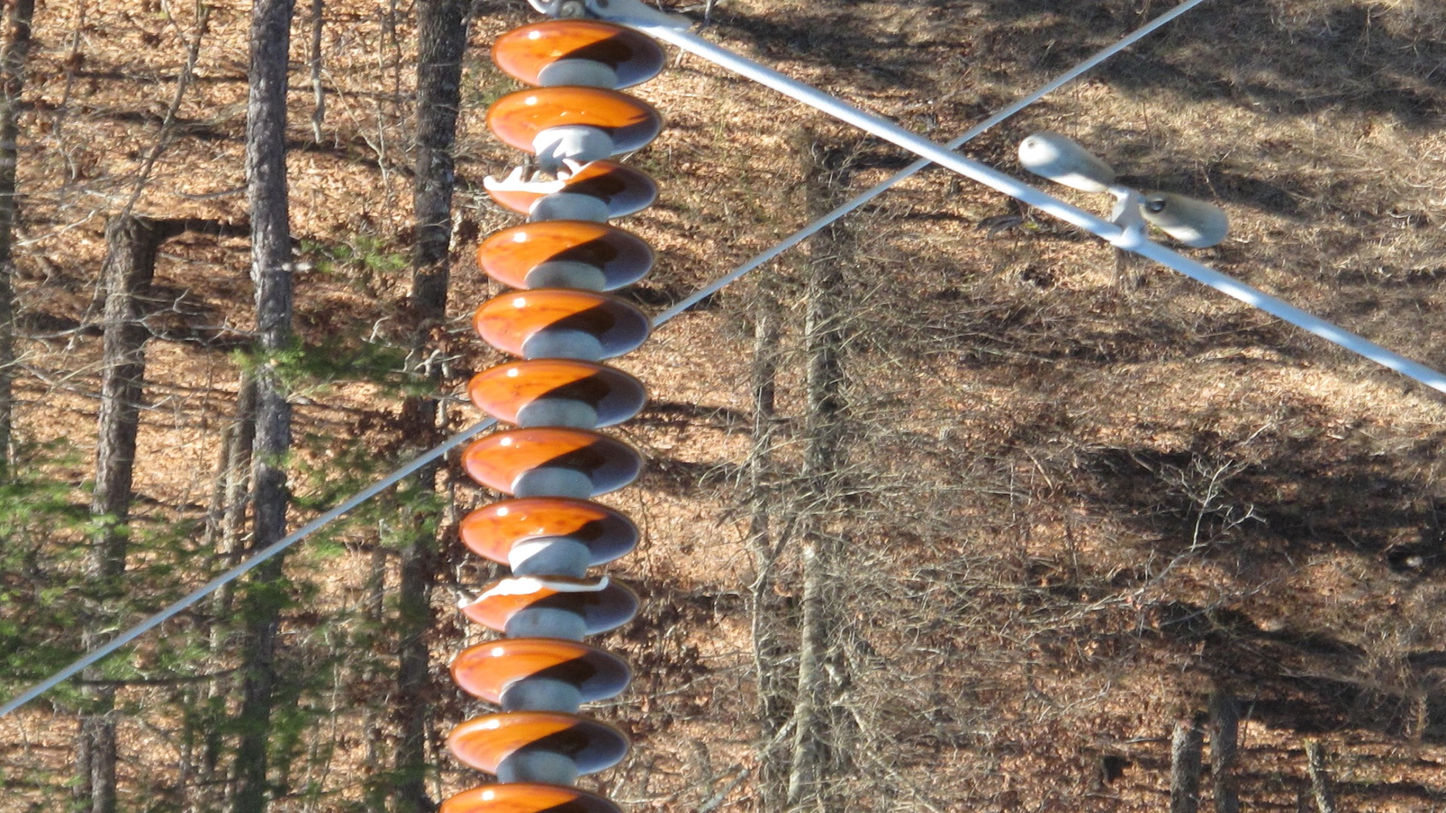insulator: (431, 13, 676, 813)
insulator_breakage: (455, 572, 614, 612), (482, 154, 606, 197)
